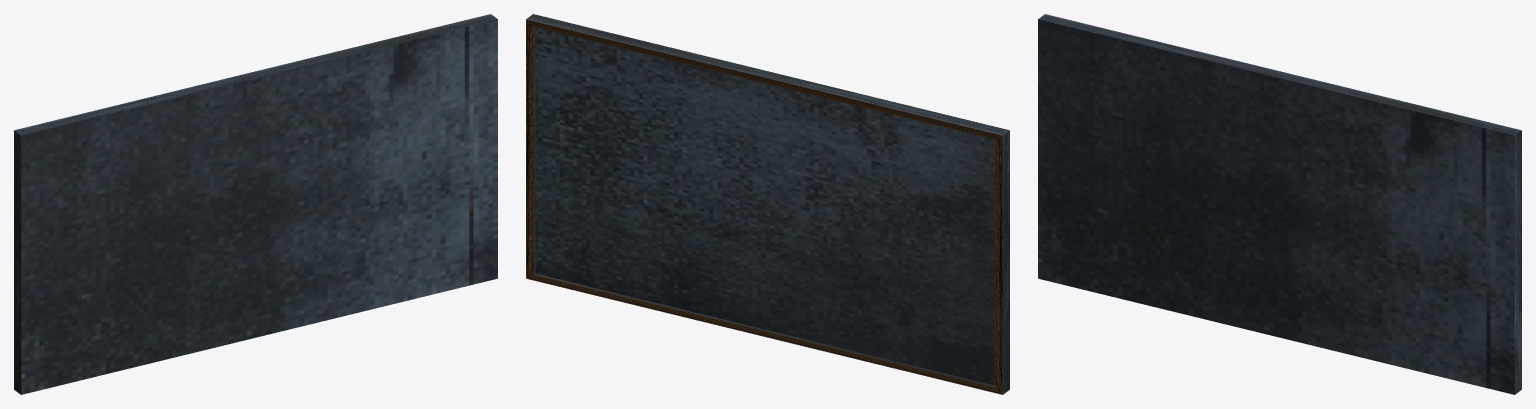
The model's file is Psx Blackboard.fbx.
3 views of the same model, side by side, from view 1: azimuth 30°, elevation 25°; view 2: azimuth 150°, elevation 25°; view 3: azimuth 330°, elevation 25° (orthographic).
Parts seen in each view (by area): view 1: pCube2; view 2: pCube2; view 3: pCube2.
Boxes of the visible parts, <box> form: pCube2: <box>14,14,497,394</box>; pCube2: <box>526,14,1009,394</box>; pCube2: <box>1038,14,1521,394</box>.
Size of the model in its own units: 9.84 by 5.12 by 0.2572.
2 materials, 2 textured.
